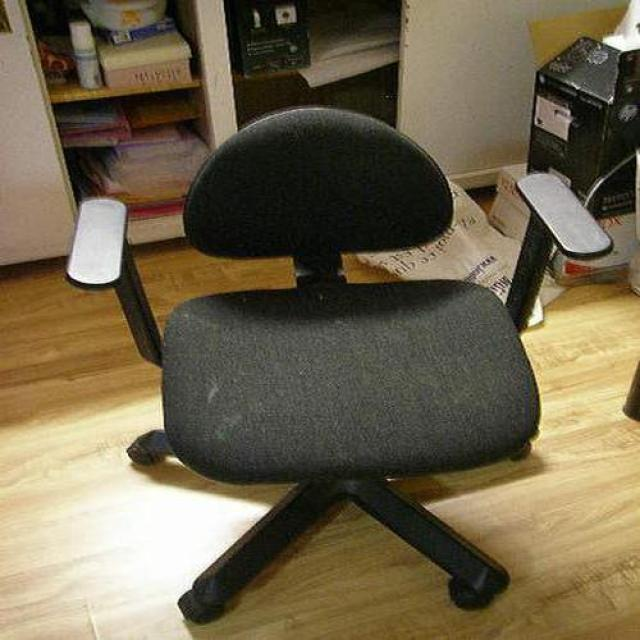swivelchair: (65, 108, 613, 626)
